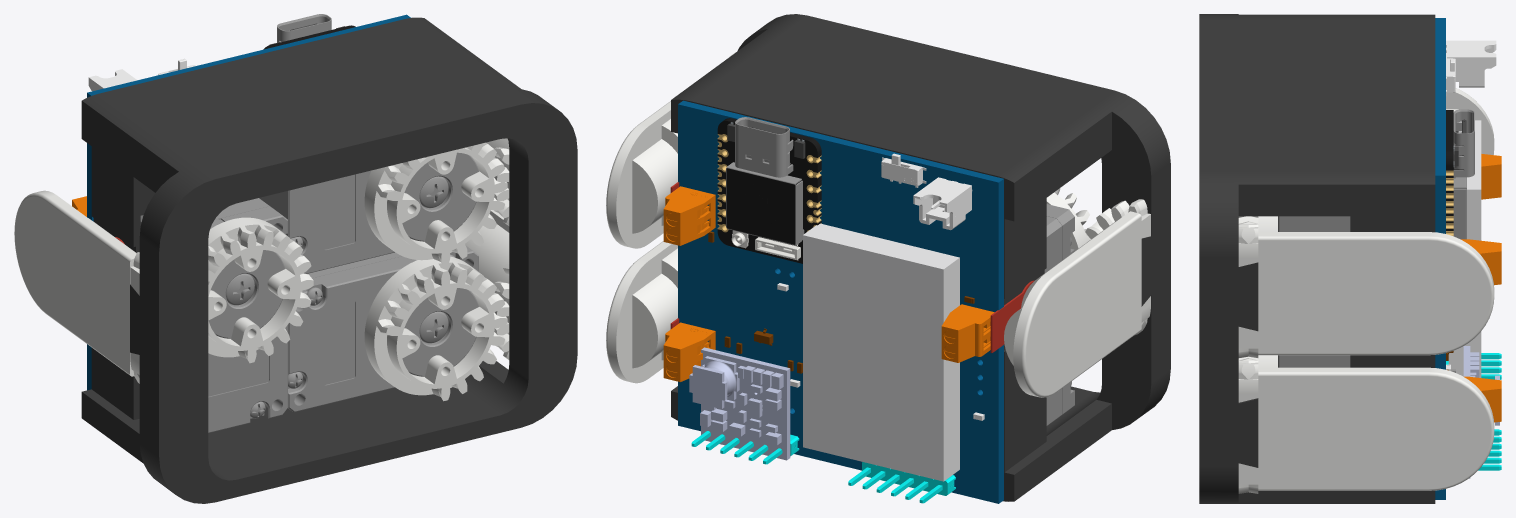
Rendered from whc2025-demo.glb.
The picture shows the model from 3 angles, left to right: view 1: azimuth 30°, elevation 25°; view 2: azimuth 150°, elevation 25°; view 3: azimuth 270°, elevation 25°; orthographic projection.
Visible parts, largest first — view 1: outerwall:1/ボディ1, fin:1/ボディ1, pinion:3/ボディ1, XL,XC-330 v1:2+DC15_A01_CASE_F_DUMMY:1/ボディ1, pinion:2/ボディ1, pinion:1/ボディ1, XL,XC-330 v1:3+DC15_A01_CASE_F_DUMMY:1/ボディ1, XL,XC-330 v1:1+DC15_A01_CASE_F_DUMMY:1/ボディ1, XL,XC-330 v1:2+DC15_A01_HORN_DUMMY:1/ボディ1, XL,XC-330 v1:3+DC15_A01_HORN_DUMMY:1/ボディ1, XL,XC-330 v1:1+DC15_A01_HORN_DUMMY:1/ボディ1, fin:3/ボディ1 (+6 smaller); view 2: outerwall:1/ボディ1, 3D_PCB1_2025-07-17 v1:1+Board~V7F3:1/ボディ1, battery:1/ボディ1, fin:1/ボディ1, step-up-voltage-regulator-u3v40fx v1:1/ボディ1, XIAO ESP32S3 PLUS v4 v1:1+XIAO ESP32S3 PLUS_V1.0_241025_PCB: (×4), fin:3/ボディ1, fin:2/ボディ1, 3D_PCB1_2025-07-17 v1:1+CN3~CONN-TH_2P-P2.54_MX128-2.54-GN01 (×3), XIAO ESP32S3 PLUS v4 v1:1/ボディ12, 3D_PCB1_2025-07-17 v1:1+CN1~CONN-TH_B02B-PASK-1N-LF-SN~CONN-, XL,XC-330 v1:1+DC15_A01_CASE_M_DUMMY:1/ボディ1 (+4 smaller); view 3: outerwall:1/ボディ1, fin:2/ボディ1, fin:3/ボディ1, XIAO ESP32S3 PLUS v4 v1:1+XIAO ESP32S3 PLUS_V1.0_241025_PCB: (×3), 3D_PCB1_2025-07-17 v1:1+Board~V7F3:1/ボディ1, 3D_PCB1_2025-07-17 v1:1+CN3~CONN-TH_2P-P2.54_MX128-2.54-GN01 (×3), battery:1/ボディ1, 3D_PCB1_2025-07-17 v1:1+CN1~CONN-TH_B02B-PASK-1N-LF-SN~CONN-, fin:1/ボディ1, XL,XC-330 v1:3+DC15_A01_CASE_M_DUMMY:1/ボディ1, XL,XC-330 v1:2+DC15_A01_CASE_M_DUMMY:1/ボディ1, step-up-voltage-regulator-u3v40fx v1:1/ボディ1 (+3 smaller).
Boxes of the visible parts, x1,y1,x2,y2 form: outerwall:1/ボディ1: [81, 17, 577, 503]; fin:1/ボディ1: [14, 190, 139, 383]; pinion:3/ボディ1: [364, 256, 507, 401]; XL,XC-330 v1:2+DC15_A01_CASE_F_DUMMY:1/ボディ1: [288, 245, 478, 412]; pinion:2/ボディ1: [364, 142, 507, 265]; pinion:1/ボディ1: [208, 217, 313, 363]; XL,XC-330 v1:3+DC15_A01_CASE_F_DUMMY:1/ボディ1: [275, 170, 394, 273]; XL,XC-330 v1:1+DC15_A01_CASE_F_DUMMY:1/ボディ1: [208, 206, 287, 432]; XL,XC-330 v1:2+DC15_A01_HORN_DUMMY:1/ボディ1: [402, 288, 478, 376]; XL,XC-330 v1:3+DC15_A01_HORN_DUMMY:1/ボディ1: [402, 152, 478, 241]; XL,XC-330 v1:1+DC15_A01_HORN_DUMMY:1/ボディ1: [208, 250, 284, 338]; fin:3/ボディ1: [465, 210, 509, 359]; outerwall:1/ボディ1: [671, 14, 1170, 501]; 3D_PCB1_2025-07-17 v1:1+Board~V7F3:1/ボディ1: [678, 100, 1003, 503]; battery:1/ボディ1: [803, 223, 959, 481]; fin:1/ボディ1: [1004, 199, 1150, 397]; step-up-voltage-regulator-u3v40fx v1:1/ボディ1: [689, 347, 790, 460]; XIAO ESP32S3 PLUS v4 v1:1+XIAO ESP32S3 PLUS_V1.0_241025_PCB: (×4): [717, 117, 821, 263]; fin:3/ボディ1: [606, 241, 677, 383]; fin:2/ボディ1: [606, 51, 736, 248]; 3D_PCB1_2025-07-17 v1:1+CN3~CONN-TH_2P-P2.54_MX128-2.54-GN01 (×3): [663, 186, 994, 381]; XIAO ESP32S3 PLUS v4 v1:1/ボディ12: [726, 168, 795, 244]; 3D_PCB1_2025-07-17 v1:1+CN1~CONN-TH_B02B-PASK-1N-LF-SN~CONN-: [913, 177, 972, 230]; XL,XC-330 v1:1+DC15_A01_CASE_M_DUMMY:1/ボディ1: [1044, 216, 1062, 425]; outerwall:1/ボディ1: [1199, 14, 1435, 503]; fin:2/ボディ1: [1238, 224, 1494, 357]; fin:3/ボディ1: [1238, 360, 1494, 493]; XIAO ESP32S3 PLUS v4 v1:1+XIAO ESP32S3 PLUS_V1.0_241025_PCB: (×3): [1446, 109, 1474, 239]; 3D_PCB1_2025-07-17 v1:1+Board~V7F3:1/ボディ1: [1435, 18, 1445, 499]; 3D_PCB1_2025-07-17 v1:1+CN3~CONN-TH_2P-P2.54_MX128-2.54-GN01 (×3): [1461, 154, 1501, 422]; battery:1/ボディ1: [1448, 120, 1481, 377]; 3D_PCB1_2025-07-17 v1:1+CN1~CONN-TH_B02B-PASK-1N-LF-SN~CONN-: [1446, 40, 1496, 87]; fin:1/ボディ1: [1446, 88, 1494, 154]; XL,XC-330 v1:3+DC15_A01_CASE_M_DUMMY:1/ボディ1: [1304, 216, 1350, 231]; XL,XC-330 v1:2+DC15_A01_CASE_M_DUMMY:1/ボディ1: [1304, 355, 1350, 367]; step-up-voltage-regulator-u3v40fx v1:1/ボディ1: [1463, 346, 1499, 478].
Size of the model in its own units: 0.0745 by 0.0562 by 0.0461.
